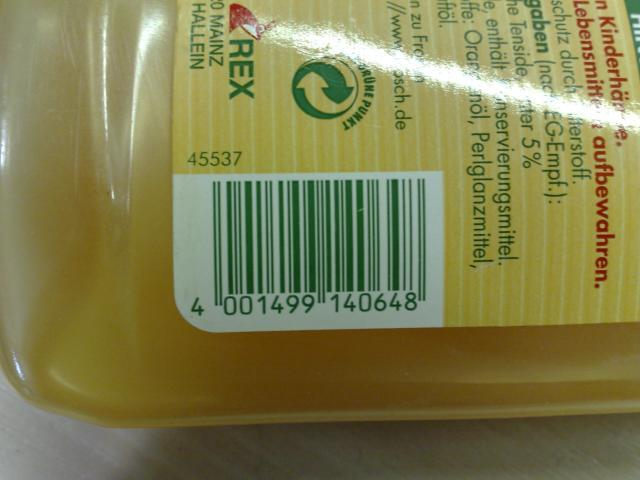Barcode: (186, 176, 442, 333)
